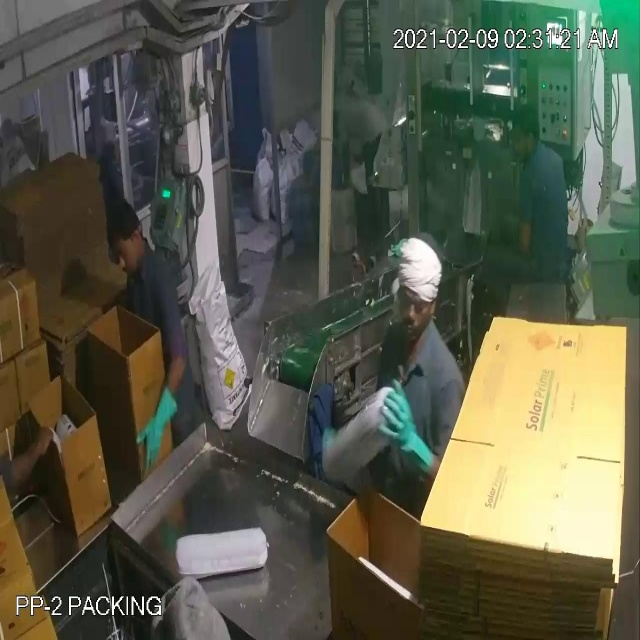Guantes: (367, 371, 442, 489), (129, 369, 184, 483)
Sin_guantes: (4, 396, 62, 512)
